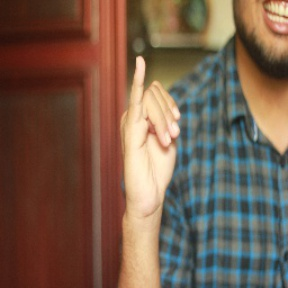I: (112, 54, 187, 214)
